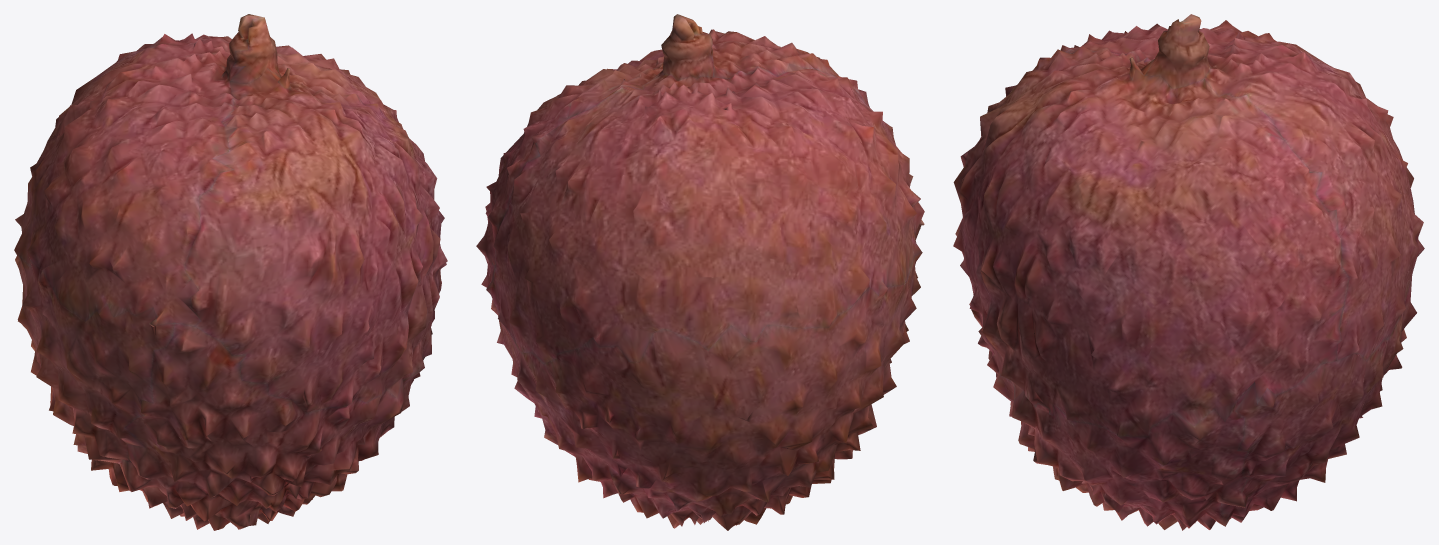
Rendered from lychee.glb.
3 renders of one model, left to right at view 1: azimuth 30°, elevation 25°; view 2: azimuth 150°, elevation 25°; view 3: azimuth 270°, elevation 25°, orthographic. The views are drawn at different scales.
Parts seen in each view (by area): view 1: food_lychee_01; view 2: food_lychee_01; view 3: food_lychee_01.
Boxes of the visible parts, <box> form: food_lychee_01: <box>14,14,447,530</box>; food_lychee_01: <box>476,14,924,530</box>; food_lychee_01: <box>953,14,1424,530</box>.
Size of the model in its own units: 0.0409 by 0.0506 by 0.042.
Materials: 1 (1 with a texture image).
